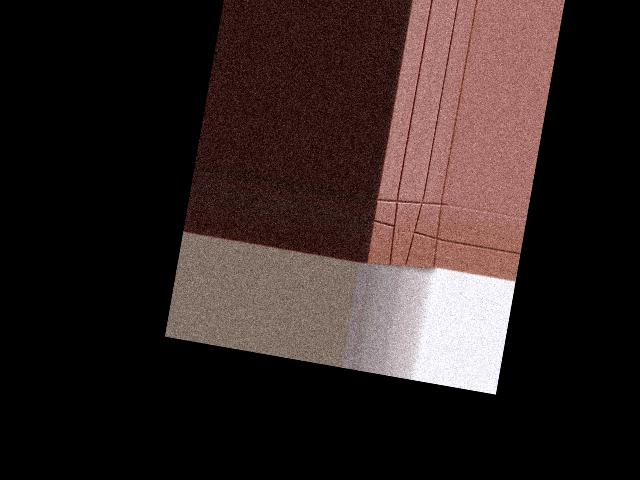chocolate: (362, 187, 449, 276)
